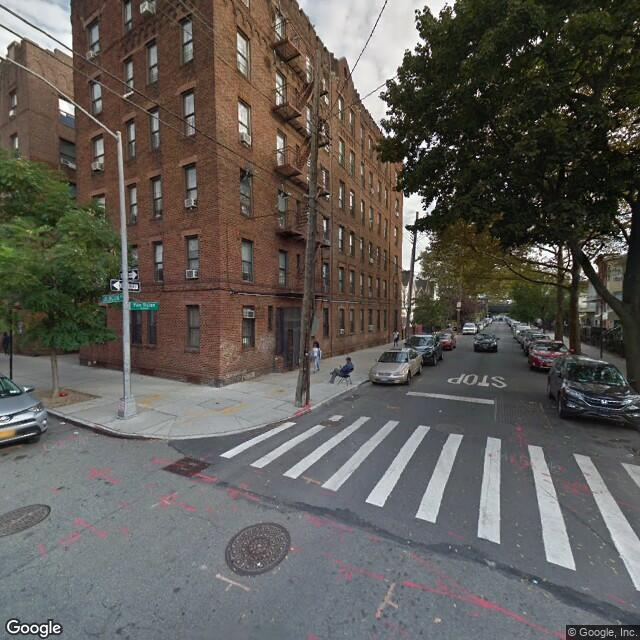litter: (66, 427, 89, 438), (56, 420, 76, 424)
